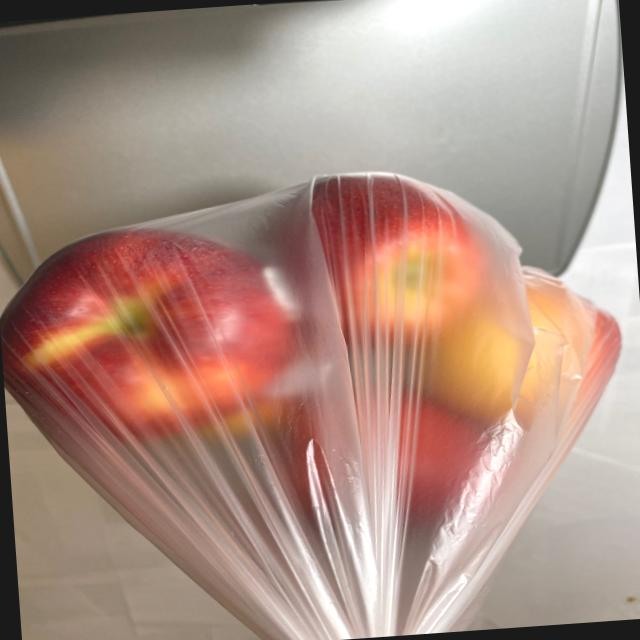apple: (0, 153, 637, 569)
